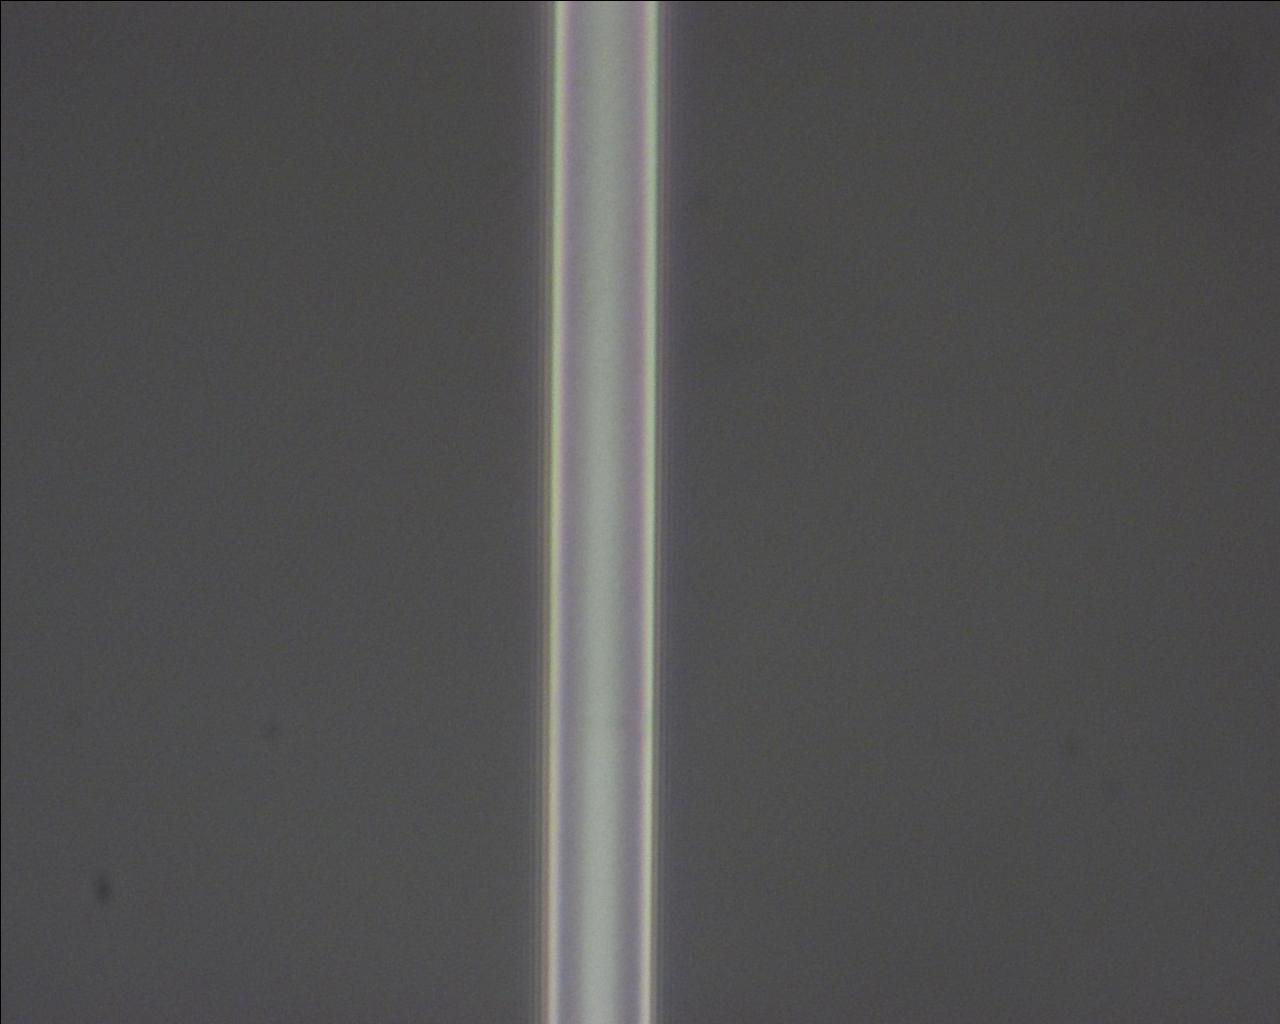fiber: (542, 0, 656, 1024)
